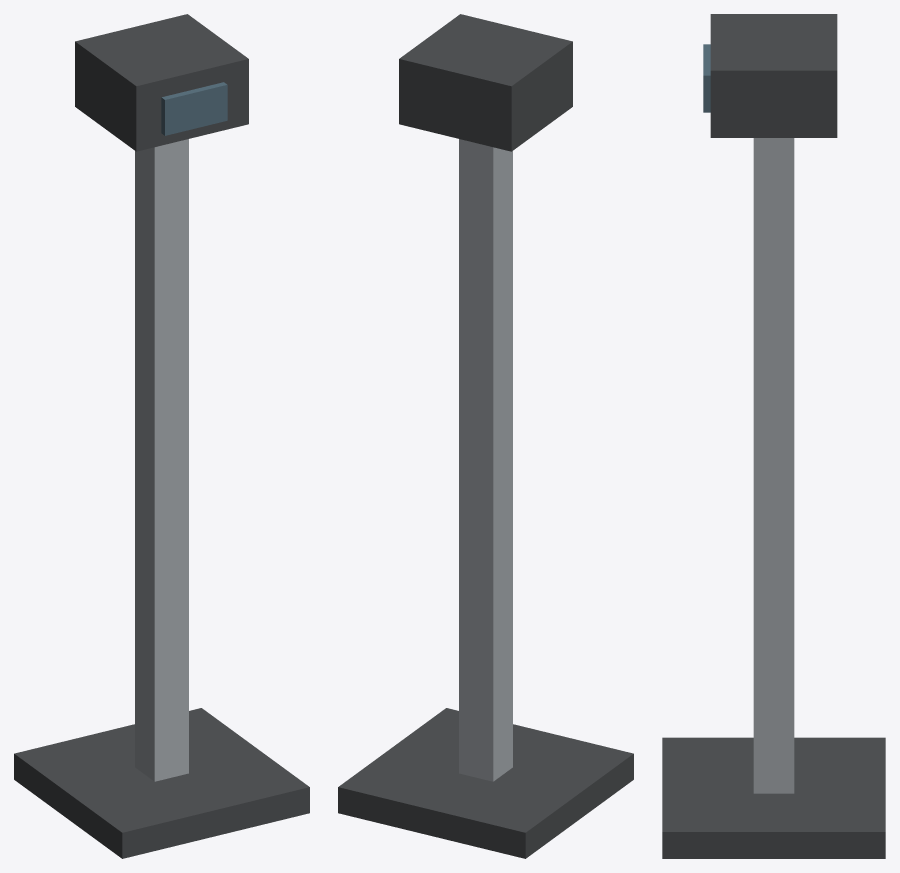
Rendered from motorcycle-racing-and-street-bikes-speed-trap-ae6cb72c__15453.glb.
The picture shows the model from 3 angles, left to right: view 1: azimuth 30°, elevation 25°; view 2: azimuth 150°, elevation 25°; view 3: azimuth 270°, elevation 25°; orthographic projection. The views are drawn at different scales.
Visible parts, largest first — view 1: speed-trap; view 2: speed-trap; view 3: speed-trap.
Part boxes in pixels (<box>): speed-trap: <box>14,14,309,858</box>; speed-trap: <box>338,14,633,858</box>; speed-trap: <box>662,14,885,858</box>.
Bounding box in the file's own units: 0.3 × 1.14 × 0.3.
